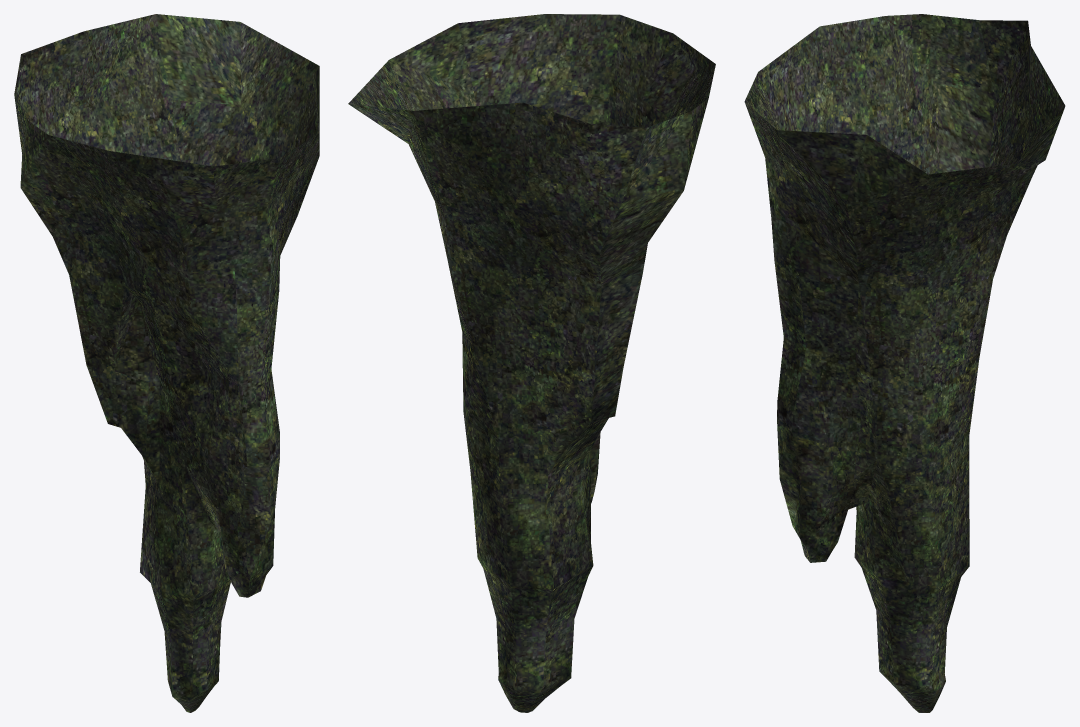
File: dmw_dungeon_pillar_02.fbx
3 renders of one model, left to right at view 1: azimuth 30°, elevation 25°; view 2: azimuth 150°, elevation 25°; view 3: azimuth 270°, elevation 25°, orthographic. The views are drawn at different scales.
Parts seen in each view (by area): view 1: dmw_dungeon_pillar_02; view 2: dmw_dungeon_pillar_02; view 3: dmw_dungeon_pillar_02.
Boxes of the visible parts, x1,y1,x2,y2 form: dmw_dungeon_pillar_02: (14,14,319,712); dmw_dungeon_pillar_02: (348,14,715,712); dmw_dungeon_pillar_02: (744,14,1065,712).
Bounding box in the file's own units: 9.78 × 20.65 × 9.37.
